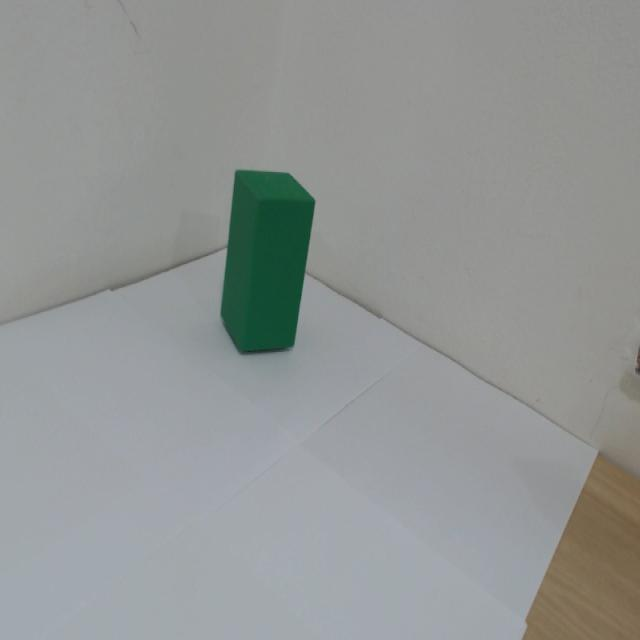cube: (200, 122, 342, 428)
